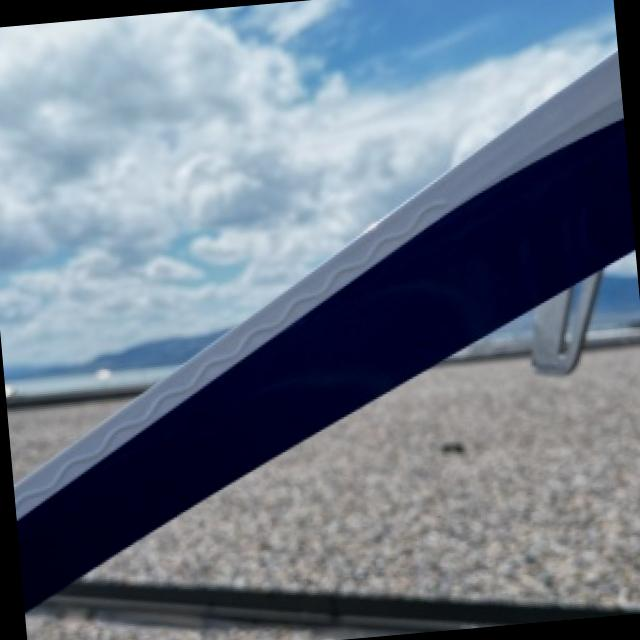healthy: (25, 615, 309, 640)
